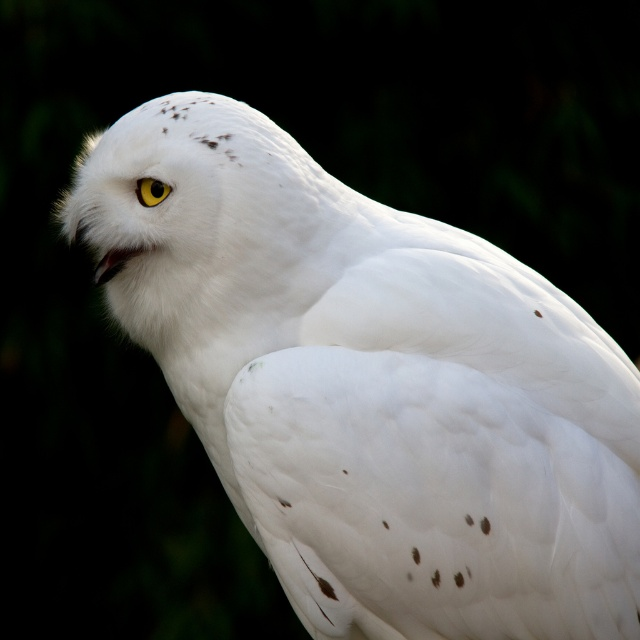Owl: (54, 89, 640, 640)
